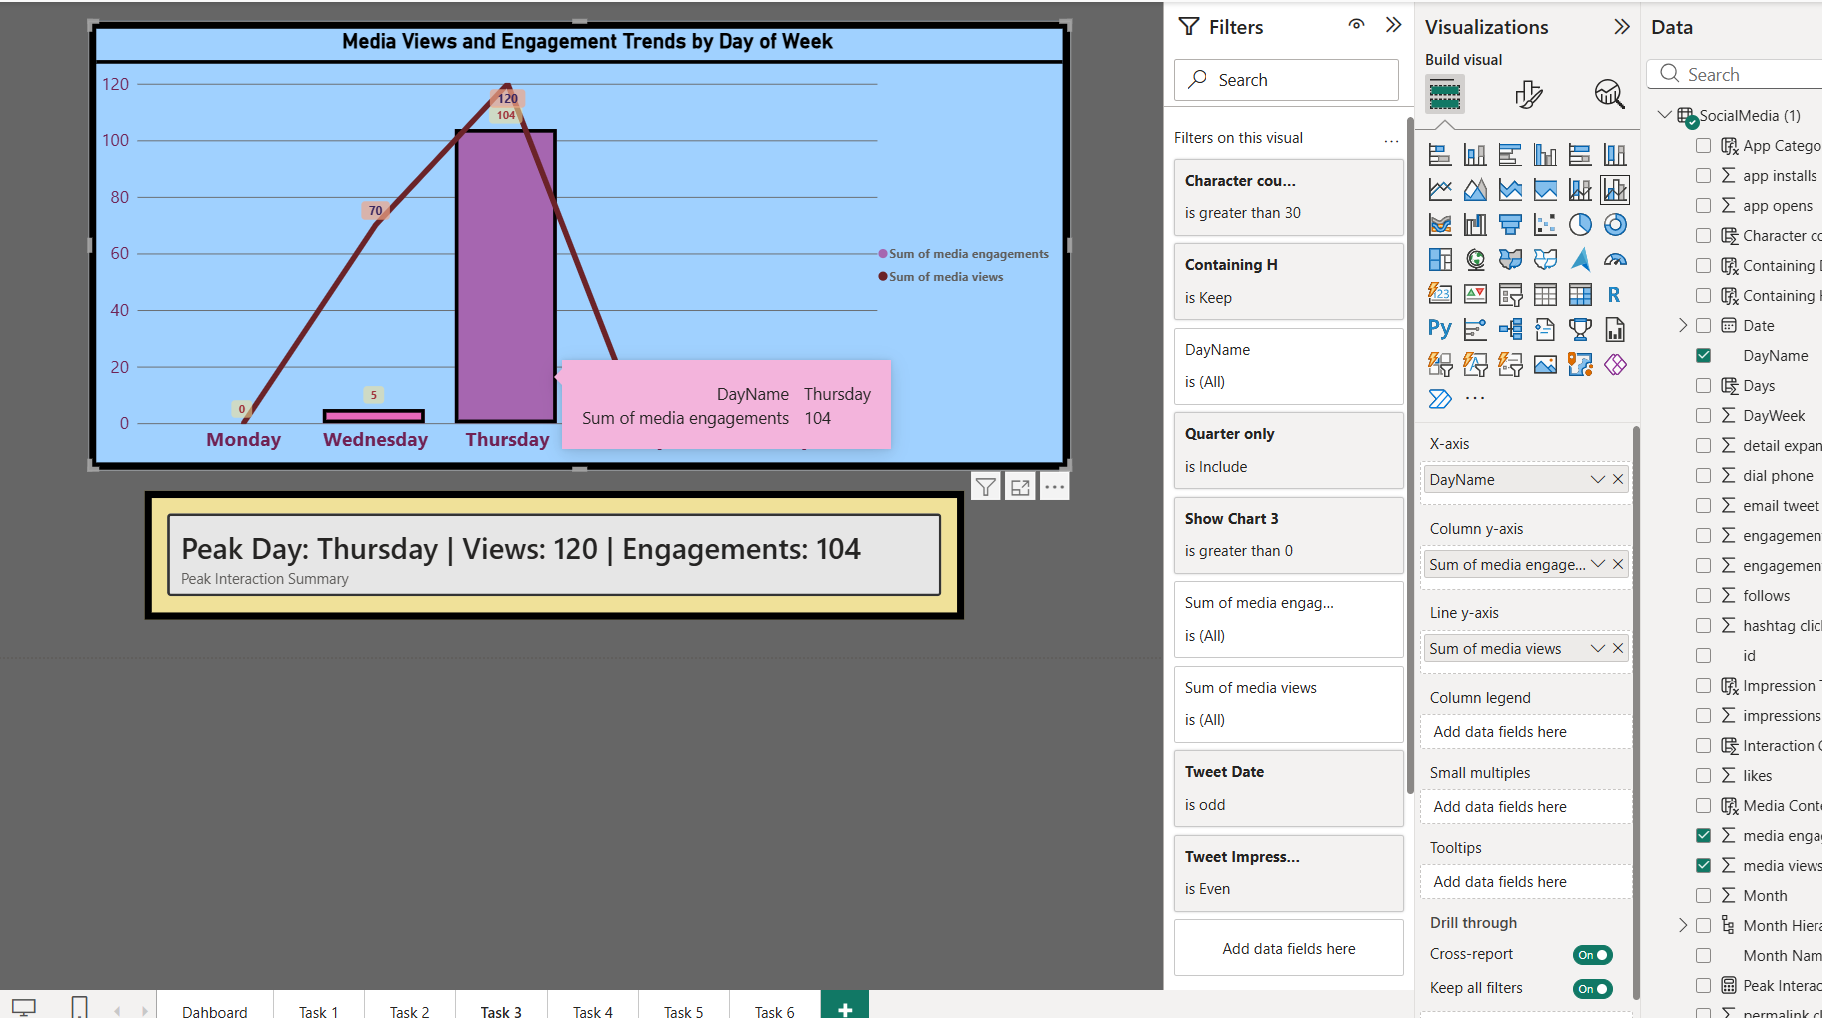

The dashboard page shown, as its layout file describes it:
{"tool":"powerbi","page":{"name":"Task 3","canvas":[1280,720],"ordinal":3},"visuals":[{"type":"lineClusteredColumnComboChart","title":"Media Views and Engagement Trends by Day of Week","fields":{"Y":["Sum(SocialMedia (1).media engagements)"],"Y2":["Sum(SocialMedia (1).media views)"],"Category":["SocialMedia (1).DayName"]},"box":[100.2,20.6,1078.6,494],"z":0},{"type":"cardVisual","fields":{"Data":["SocialMedia (1).Peak Day Text"]},"box":[161.9,536.5,900.2,141.3],"z":1000}]}

Visuals, with their boxes on the page's 1280x720 design canvas (x1, y1, x2, y2). These are canvas units, not pixel positions in the 1822x1018 screenshot, which may show the page scaled, cropped or inside an application window:
"Media Views and Engagement Trends by Day of Week" lineClusteredColumnComboChart: 100, 21, 1179, 515
cardVisual - SocialMedia (1).Peak Day Text: 162, 536, 1062, 678
